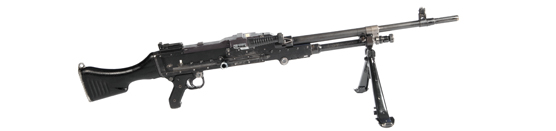rifle: (75, 10, 464, 127)
